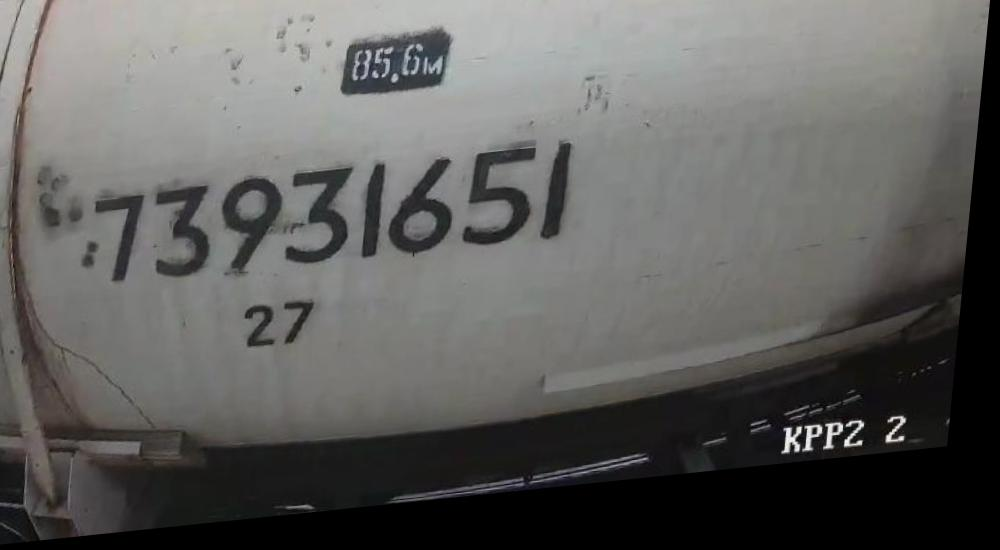Wagon-number: (92, 148, 588, 297)
